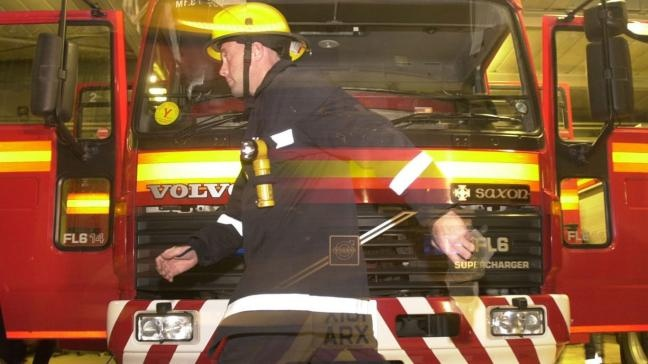yellow: (211, 3, 294, 98)
